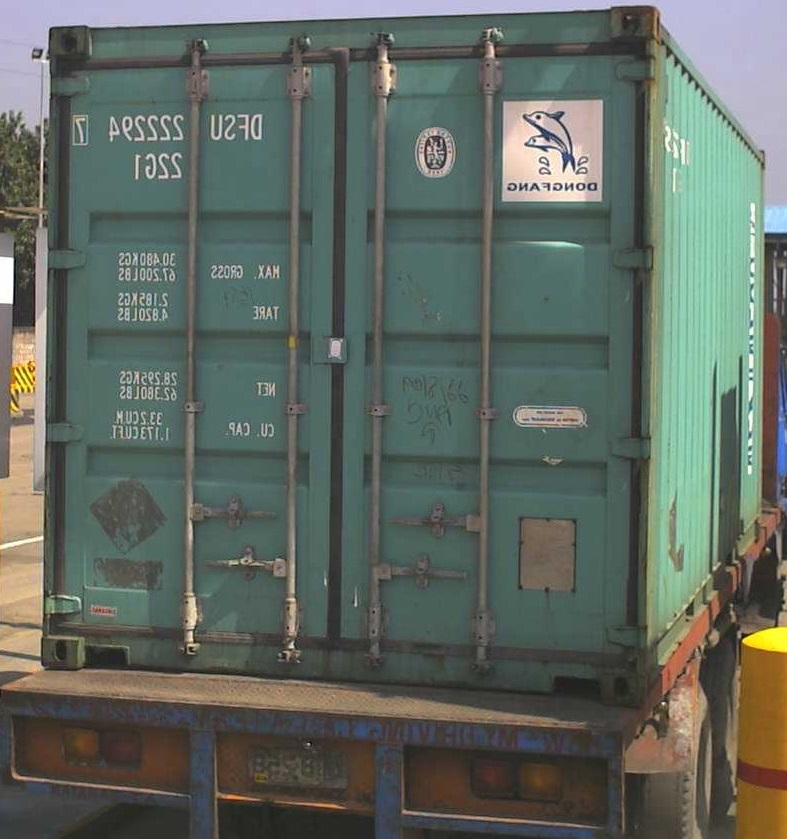container_door: (43, 23, 649, 709)
